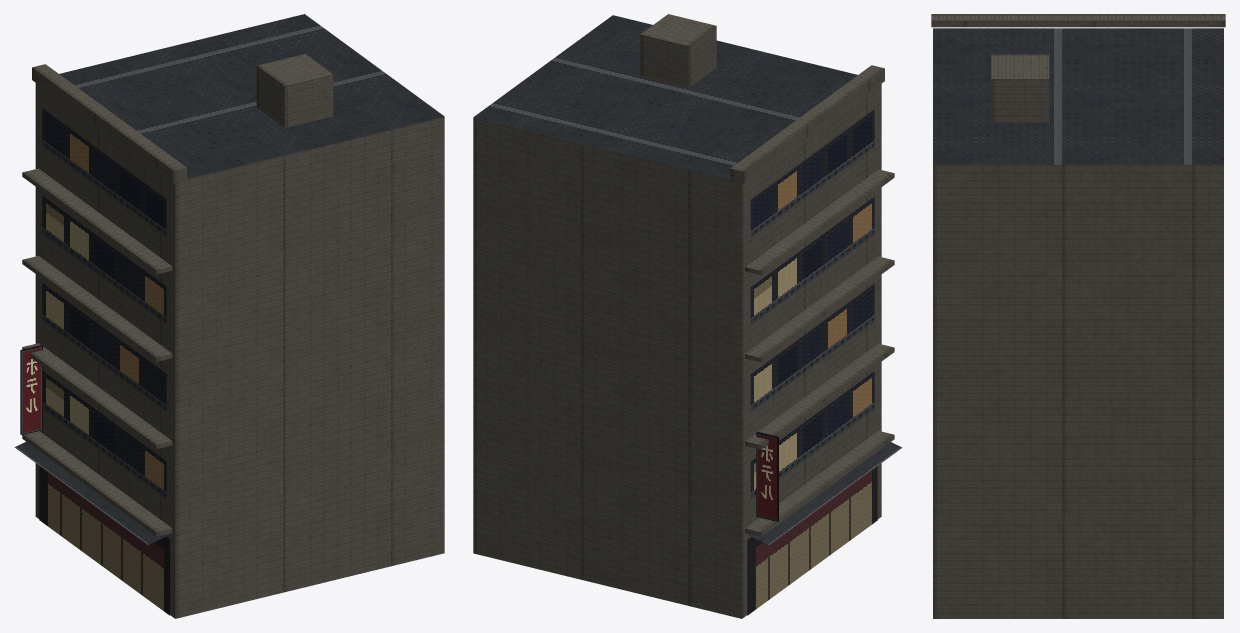
Rendered from mtn_block_up_a.glb.
3 renders of one model, left to right at view 1: azimuth 30°, elevation 25°; view 2: azimuth 150°, elevation 25°; view 3: azimuth 270°, elevation 25°, orthographic. The views are drawn at different scales.
Visible parts, largest first — view 1: mtn_block_up_a; view 2: mtn_block_up_a; view 3: mtn_block_up_a.
Boxes of the visible parts, x1,y1,x2,y2 form: mtn_block_up_a: [14, 14, 444, 618]; mtn_block_up_a: [473, 14, 902, 618]; mtn_block_up_a: [931, 14, 1225, 618].
Size of the model in its own units: 10.95 by 17 by 9.1.
5 materials, 5 textured.
